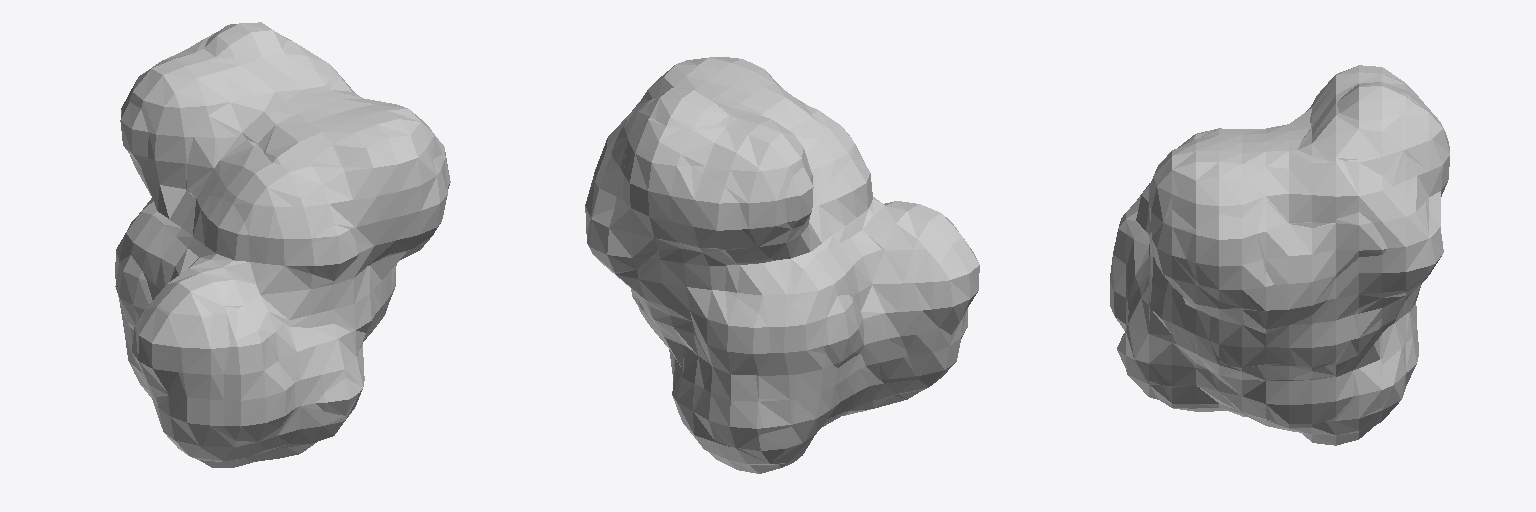
Rendered from 1bbu_1_cms.obj.
3 renders of one model, left to right at view 1: azimuth 30°, elevation 25°; view 2: azimuth 150°, elevation 25°; view 3: azimuth 270°, elevation 25°, orthographic.
Size of the model in its own units: 100 by 112 by 92.78.